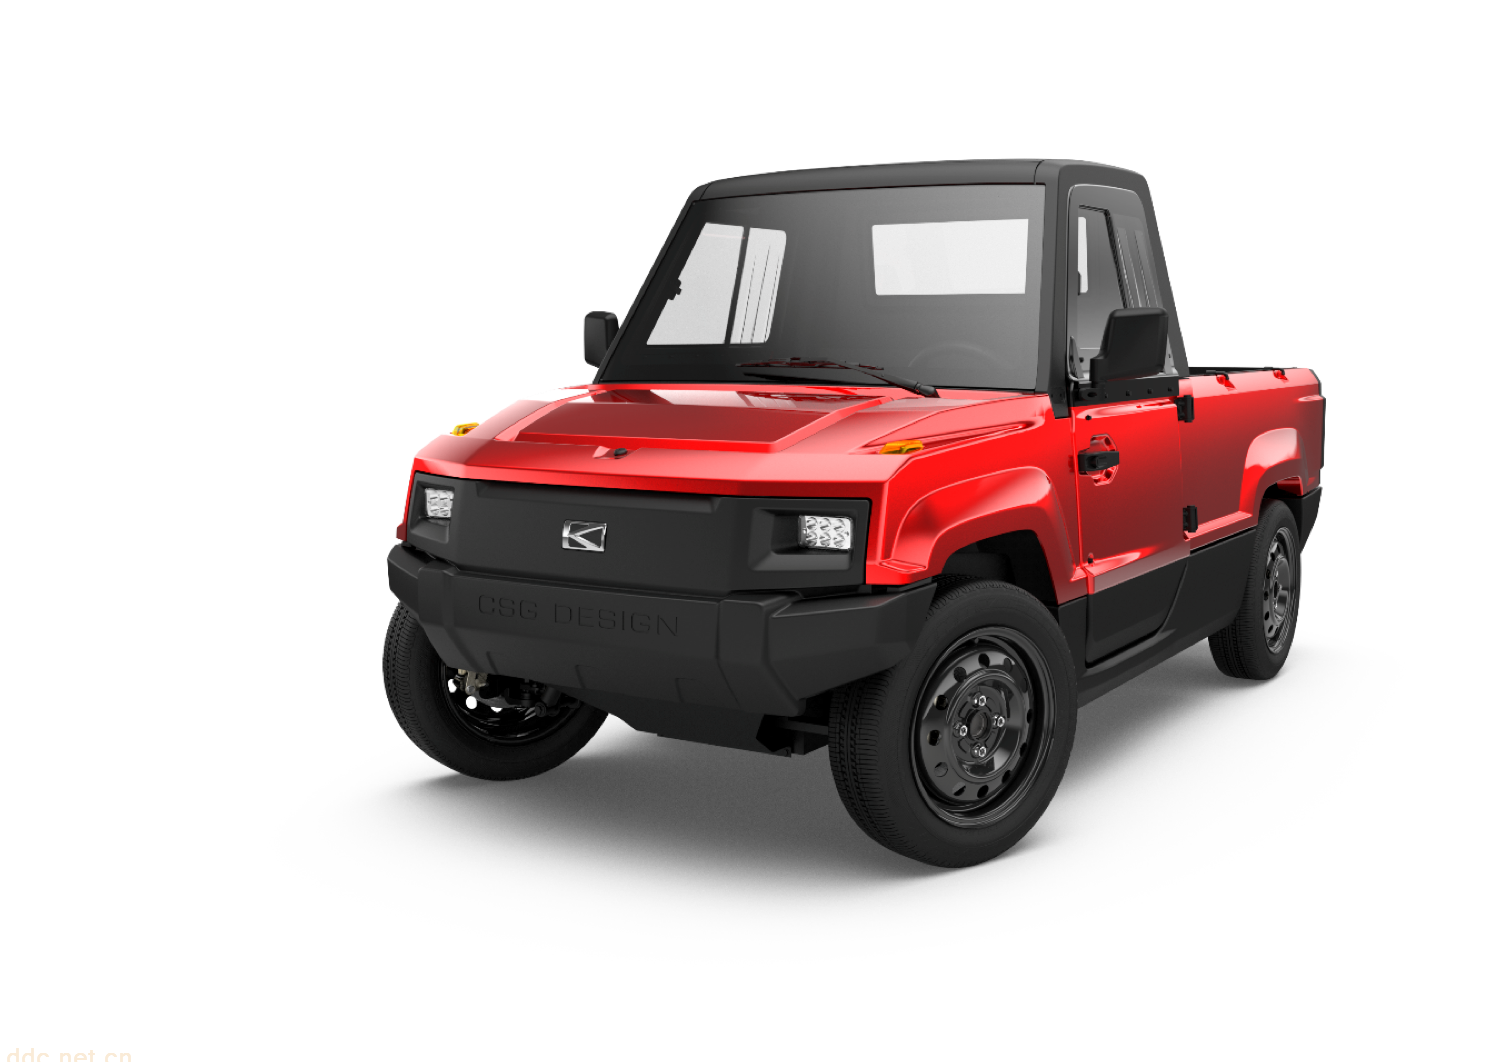MNV: (387, 160, 1330, 874)
